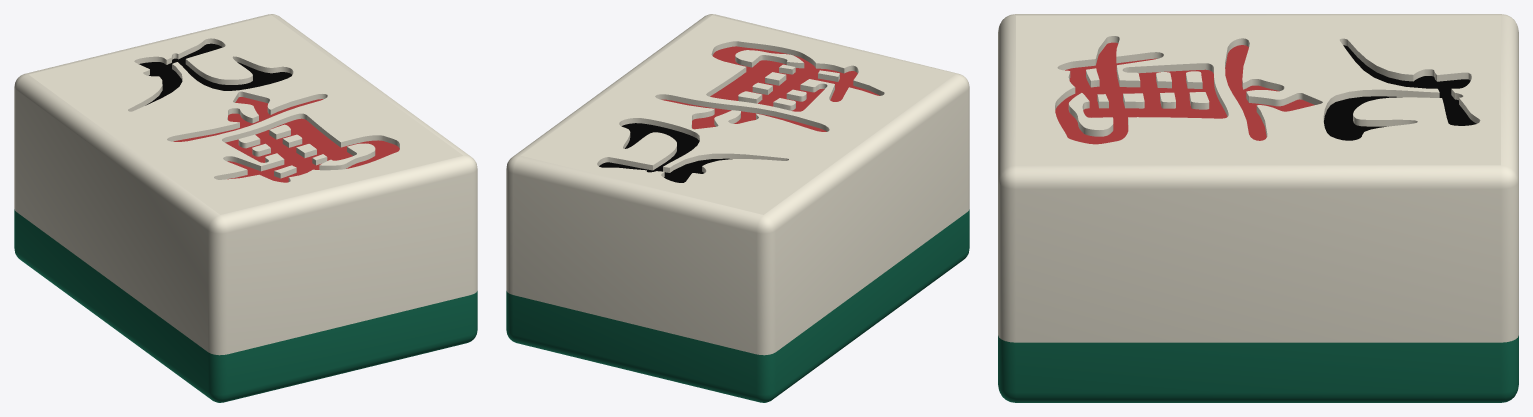
File: Man9.glb
3 views of the same model, side by side, from view 1: azimuth 30°, elevation 25°; view 2: azimuth 150°, elevation 25°; view 3: azimuth 270°, elevation 25° (orthographic). The views are drawn at different scales.
Visible parts, largest first — view 1: Man9_body, Man9_inset; view 2: Man9_body, Man9_inset; view 3: Man9_body, Man9_inset.
Part boxes in pixels (box(x1,y1,x2,y2)): Man9_body: box(14, 14, 477, 402); Man9_inset: box(139, 43, 399, 182); Man9_body: box(506, 14, 969, 402); Man9_inset: box(599, 46, 879, 182); Man9_body: box(998, 14, 1518, 402); Man9_inset: box(1055, 42, 1476, 144).
Bounding box in the file's own units: 0.024 × 0.016 × 0.032.
